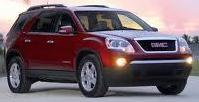front_view: (101, 32, 194, 94)
headlight: (104, 35, 143, 56)
side_glass: (22, 9, 81, 38)
